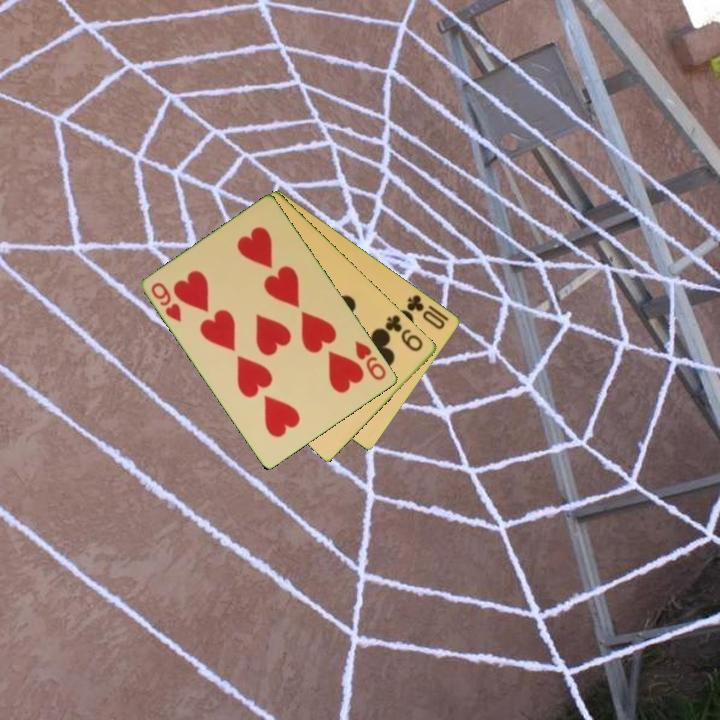10c: (403, 291, 448, 332)
9c: (382, 311, 426, 355)
9h: (352, 337, 389, 384), (148, 279, 185, 325)
